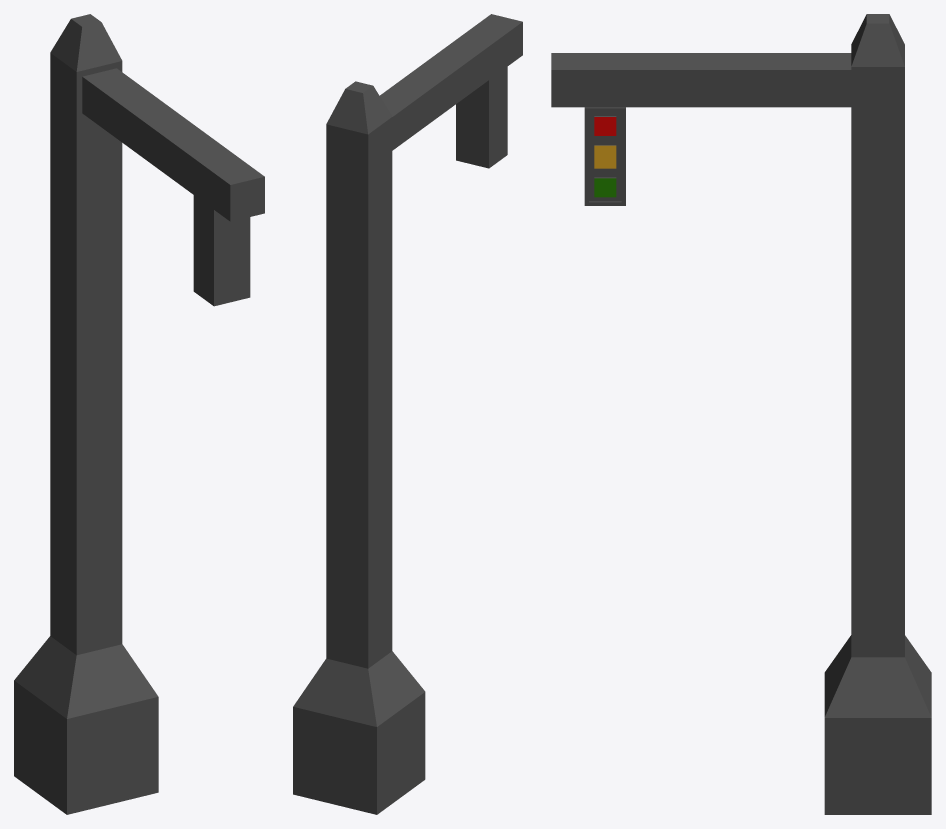
Rendered from Semaforo.fbx.
3 renders of one model, left to right at view 1: azimuth 30°, elevation 25°; view 2: azimuth 150°, elevation 25°; view 3: azimuth 270°, elevation 25°, orthographic. The views are drawn at different scales.
Visible parts, largest first — view 1: traffic light; view 2: traffic light; view 3: traffic light.
Part boxes in pixels (bbox=[...]): traffic light: bbox=[14, 14, 264, 814]; traffic light: bbox=[293, 14, 522, 814]; traffic light: bbox=[551, 14, 931, 814].
Size of the model in its own units: 49.38 by 394 by 175.
